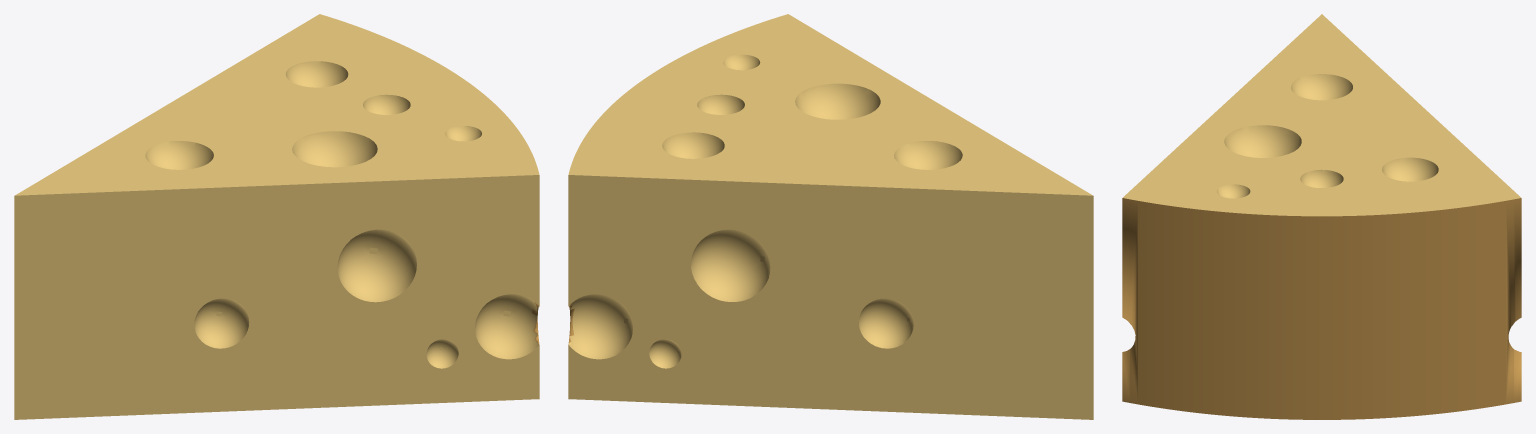
3 views of the same model, side by side, from view 1: azimuth 30°, elevation 25°; view 2: azimuth 150°, elevation 25°; view 3: azimuth 270°, elevation 25° (orthographic). The views are drawn at different scales.
Visible parts, largest first — view 1: NEW307_SwissCheese_LOD0; view 2: NEW307_SwissCheese_LOD0; view 3: NEW307_SwissCheese_LOD0.
Part boxes in pixels (<box>): NEW307_SwissCheese_LOD0: <box>14,14,539,419</box>; NEW307_SwissCheese_LOD0: <box>568,14,1093,419</box>; NEW307_SwissCheese_LOD0: <box>1122,14,1521,419</box>.
Bounding box in the file's own units: 0.13 × 0.061 × 0.1084.
